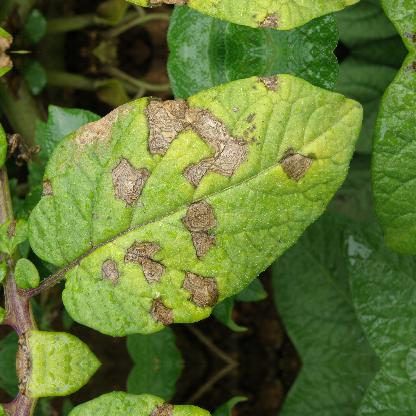Early-Blight: (21, 69, 391, 346)
